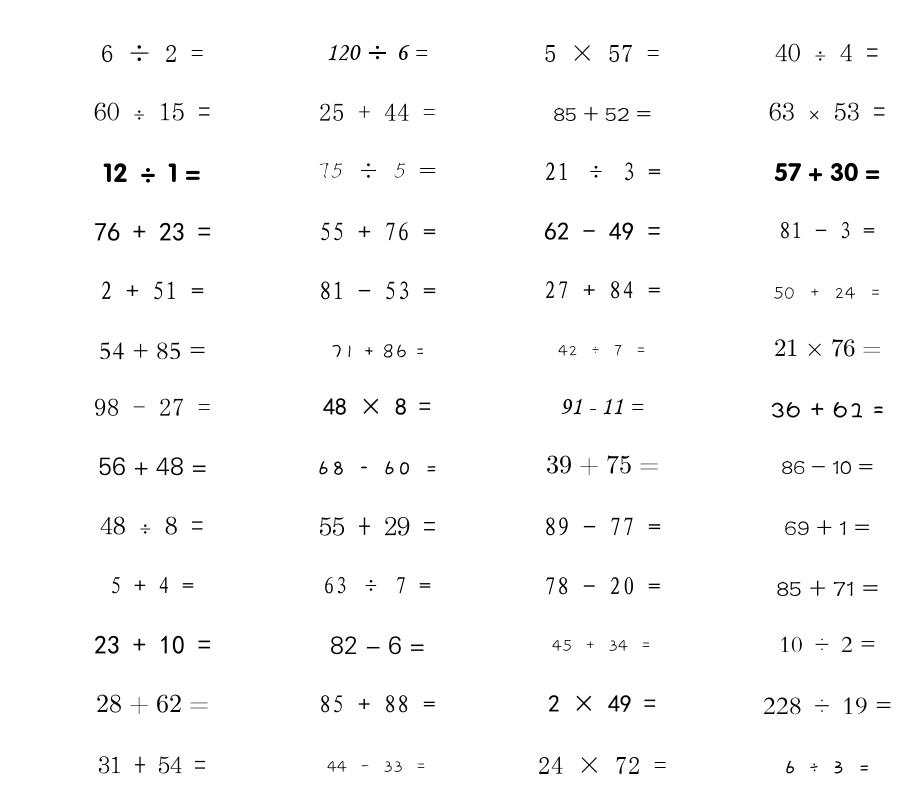MQ: (546, 455, 659, 476), (96, 694, 209, 715), (319, 516, 436, 536), (94, 635, 211, 655), (763, 697, 892, 715), (538, 756, 667, 774), (94, 102, 211, 121), (769, 102, 886, 121), (544, 162, 661, 181), (94, 222, 211, 241), (319, 222, 436, 241), (319, 281, 436, 300), (544, 517, 661, 536), (774, 162, 880, 182), (319, 103, 436, 121), (544, 222, 661, 240), (544, 281, 661, 299), (94, 398, 211, 416), (544, 577, 661, 595), (319, 695, 436, 713), (98, 457, 207, 476), (318, 162, 437, 179), (775, 43, 879, 62), (100, 281, 204, 300), (100, 516, 204, 535), (544, 45, 660, 62), (103, 163, 201, 183), (323, 576, 431, 594), (98, 756, 206, 774), (770, 401, 884, 418), (99, 342, 206, 360), (774, 339, 881, 357), (101, 44, 204, 62), (323, 398, 431, 415), (548, 695, 656, 712), (330, 636, 425, 655), (776, 580, 879, 597), (326, 44, 428, 61), (779, 221, 875, 239), (316, 461, 438, 475), (779, 636, 876, 653), (553, 106, 651, 122), (773, 286, 882, 300), (110, 576, 194, 594), (784, 519, 870, 536), (560, 398, 644, 415), (330, 344, 425, 359), (552, 639, 652, 652), (781, 460, 873, 474), (783, 760, 871, 774), (327, 761, 427, 773), (558, 345, 647, 357)
